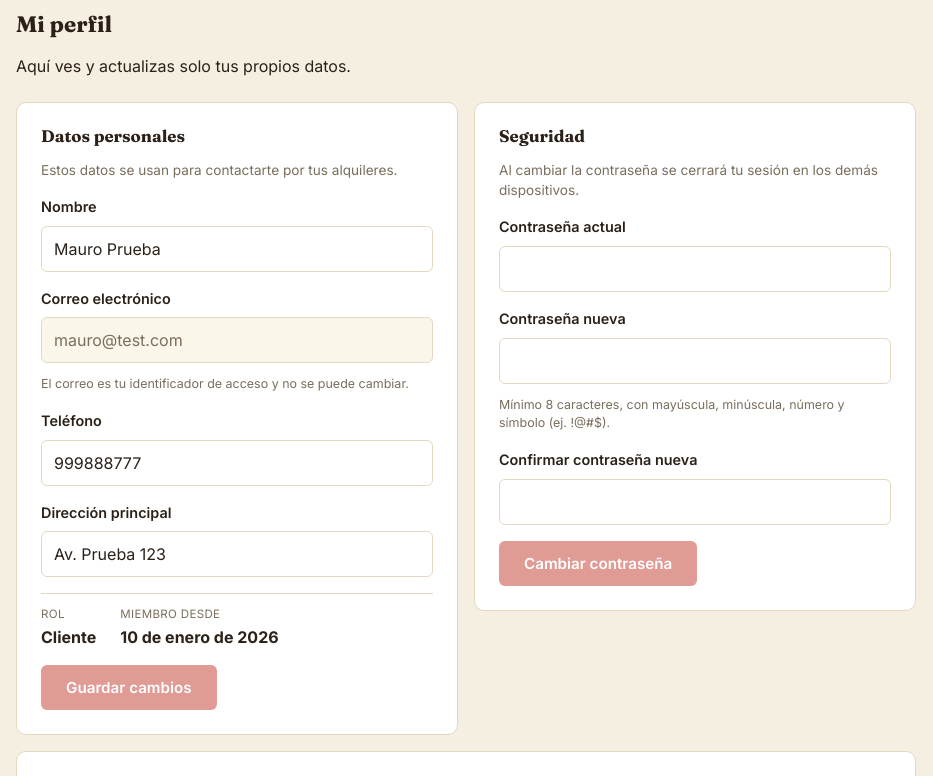
Test: Pruebas funcionales - Perfil › PF-FE-75: permite modificar los datos personales y actualiza el usuario de la sesión
The width and height of the screenshot is (933, 776).
Replace the text in the field labelled "Nombre" with "Mauro Actualizado" at coordinates (237, 249), box [41,226,433,272]
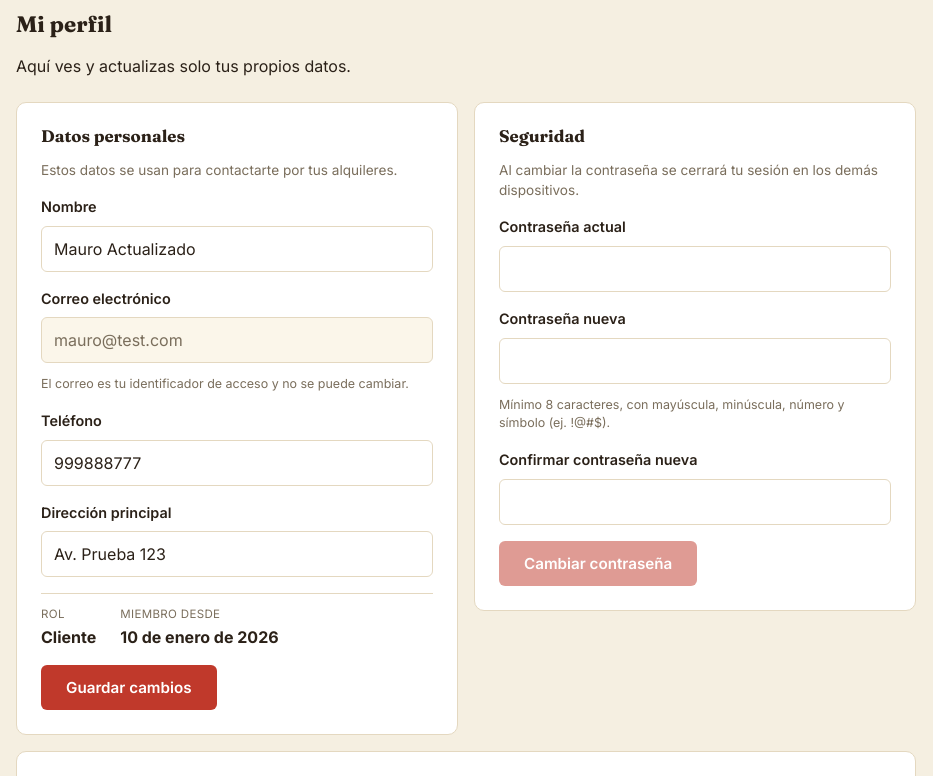
Replace the text in the field labelled "Teléfono" with "987654321" at coordinates (237, 463), box [41,440,433,486]
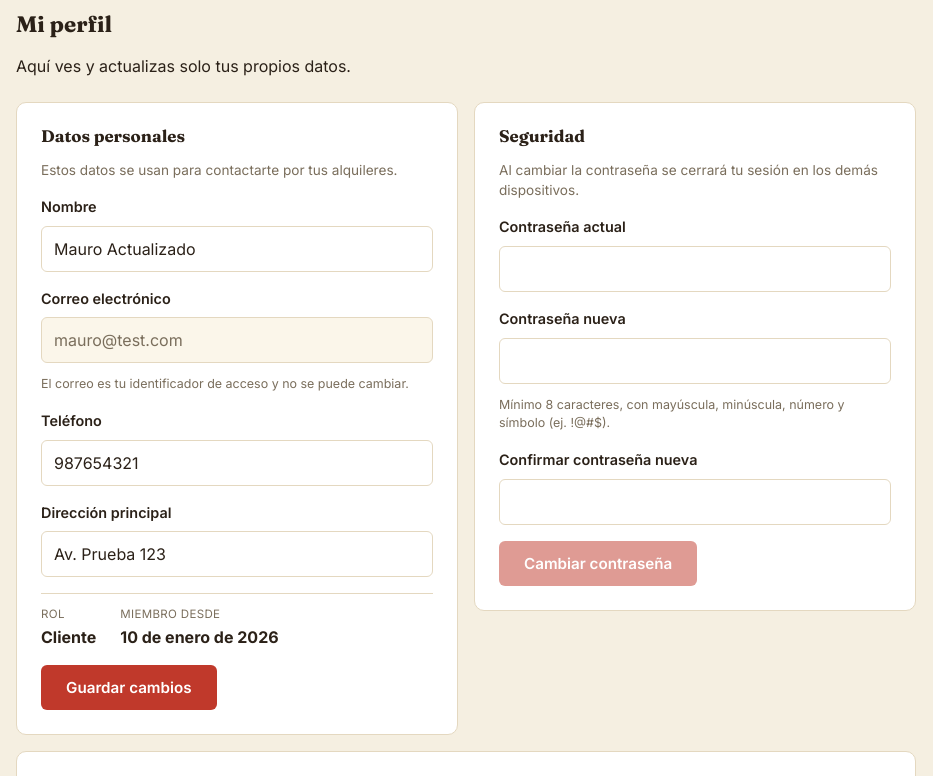
Click the button "Guardar cambios" at coordinates (129, 688), box [41,666,217,710]
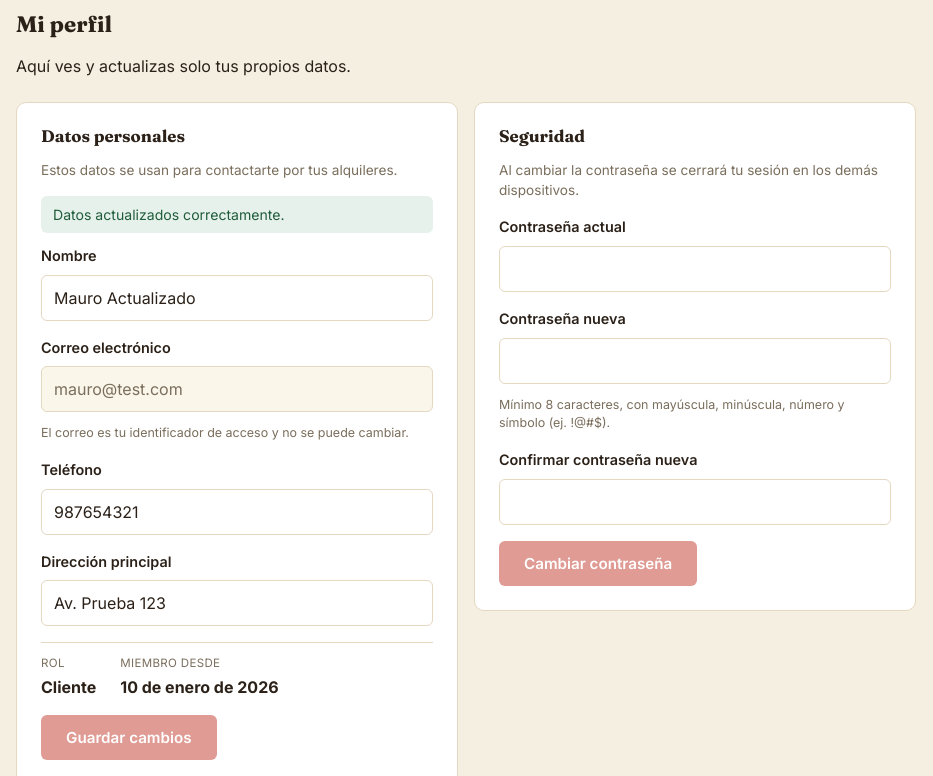
Expected: the text "Datos actualizados correctamente." is shown, [41,196,433,233]
